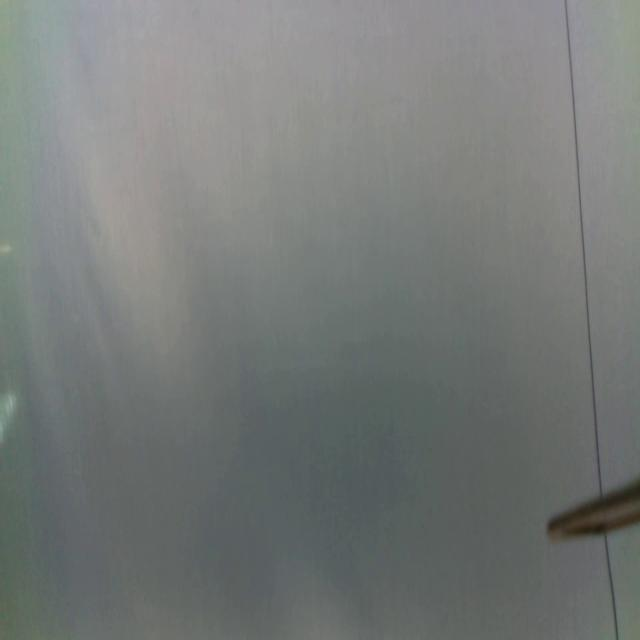crease: (565, 0, 603, 497), (603, 534, 620, 640)
